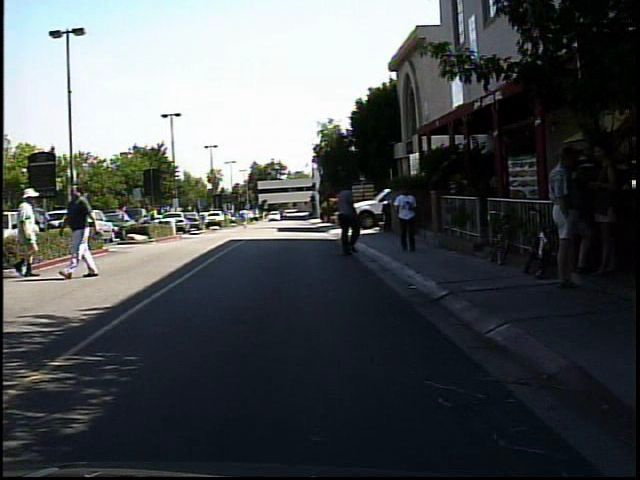person: (543, 135, 592, 293), (583, 141, 621, 282), (329, 174, 381, 263), (61, 180, 106, 281), (10, 182, 48, 279), (388, 178, 426, 255), (148, 202, 164, 236), (238, 203, 254, 228)
